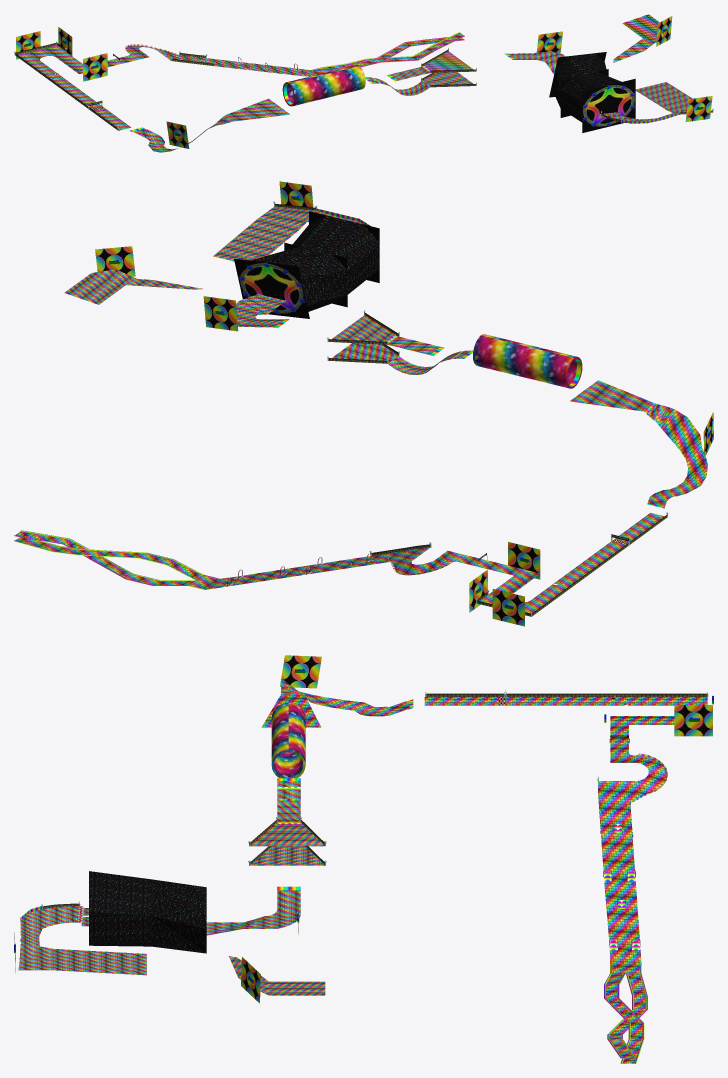
3 views of the same model, one above another, from view 1: azimuth 30°, elevation 25°; view 2: azimuth 150°, elevation 25°; view 3: azimuth 270°, elevation 25° (orthographic). The views are drawn at different scales.
Parts seen in each view (by area): view 1: course_model-SKP--Road.003, course_model-SKP--arrowRing.001, course_model-SKP--StarPost.001, course_model-SKP--starbits.001, course_model-SKP--tunnel.001, course_model-SKP--fence.001, course_model-SKP--JumpPad.001, course_model-SKP--Boost.002; view 2: course_model-SKP--Road.003, course_model-SKP--starbits.001, course_model-SKP--arrowRing.001, course_model-SKP--tunnel.001, course_model-SKP--StarPost.001, course_model-SKP--fence.001, course_model-SKP--JumpPad.001; view 3: course_model-SKP--Road.003, course_model-SKP--starbits.001, course_model-SKP--arrowRing.001, course_model-SKP--tunnel.001, course_model-SKP--fence.001, course_model-SKP--JumpPad.001, course_model-SKP--Boost.002.
Boxes of the visible parts, left/top/right/bottom form: course_model-SKP--Road.003: left=18, top=14, right=692, bottom=152; course_model-SKP--arrowRing.001: left=16, top=16, right=712, bottom=148; course_model-SKP--StarPost.001: left=549, top=52, right=635, bottom=132; course_model-SKP--starbits.001: left=551, top=53, right=621, bottom=122; course_model-SKP--tunnel.001: left=113, top=55, right=365, bottom=106; course_model-SKP--fence.001: left=15, top=43, right=712, bottom=129; course_model-SKP--JumpPad.001: left=311, top=32, right=464, bottom=71; course_model-SKP--Boost.002: left=125, top=44, right=679, bottom=123; course_model-SKP--Road.003: left=15, top=206, right=707, bottom=613; course_model-SKP--starbits.001: left=250, top=215, right=379, bottom=311; course_model-SKP--arrowRing.001: left=95, top=181, right=713, bottom=626; course_model-SKP--tunnel.001: left=227, top=334, right=582, bottom=586; course_model-SKP--StarPost.001: left=234, top=211, right=379, bottom=318; course_model-SKP--fence.001: left=275, top=204, right=666, bottom=616; course_model-SKP--JumpPad.001: left=14, top=530, right=219, bottom=589; course_model-SKP--Road.003: left=19, top=681, right=707, bottom=1063; course_model-SKP--starbits.001: left=89, top=871, right=206, bottom=953; course_model-SKP--arrowRing.001: left=14, top=655, right=712, bottom=1003; course_model-SKP--tunnel.001: left=271, top=702, right=640, bottom=945; course_model-SKP--fence.001: left=19, top=693, right=706, bottom=964; course_model-SKP--JumpPad.001: left=604, top=965, right=647, bottom=1063; course_model-SKP--Boost.002: left=20, top=753, right=667, bottom=950.
Size of the model in its own units: 126446 by 29938 by 113180.
16 materials, 16 textured.
